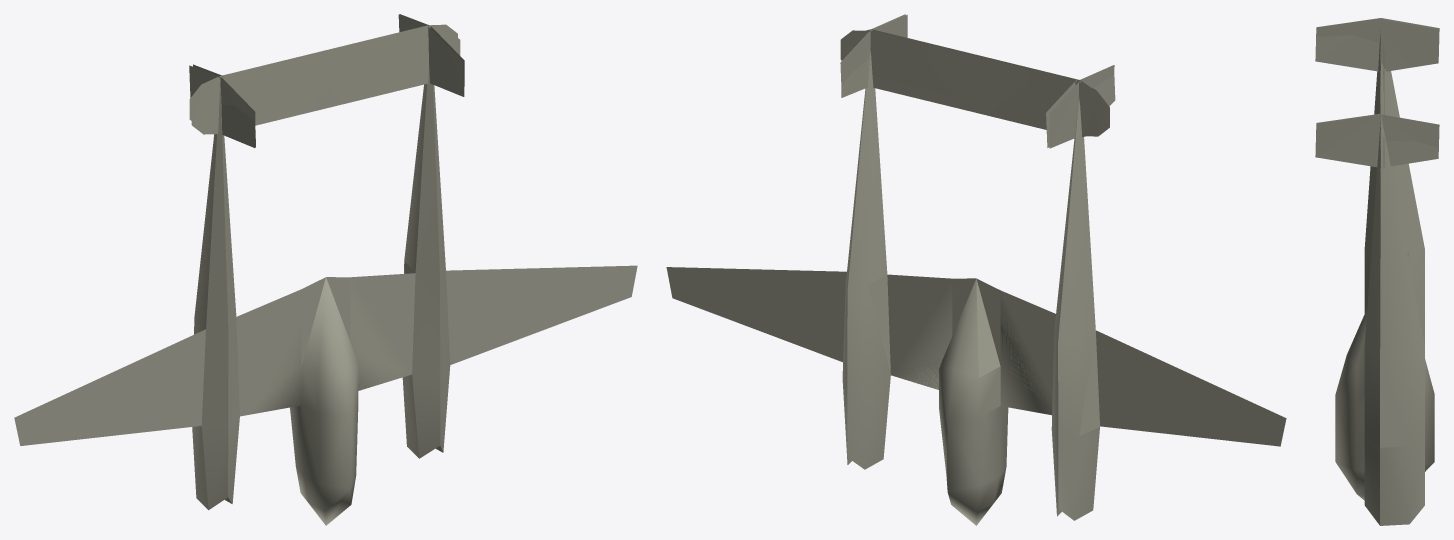
File: icon.ico.obj
3 views of the same model, side by side, from view 1: azimuth 30°, elevation 25°; view 2: azimuth 150°, elevation 25°; view 3: azimuth 270°, elevation 25° (orthographic). The views are drawn at different scales.
Size of the model in its own units: 4.46 by 3.24 by 0.8149.
